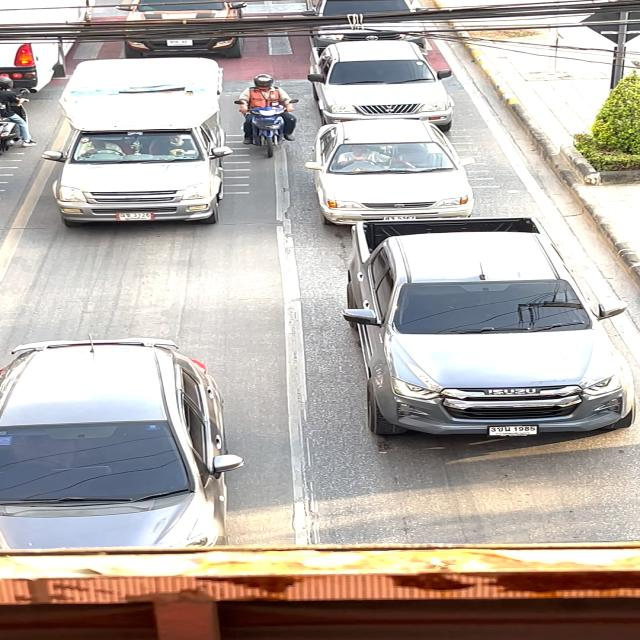car: (317, 215, 640, 448), (0, 329, 253, 544), (45, 53, 237, 232), (299, 124, 480, 230), (300, 44, 463, 128), (105, 0, 259, 45), (295, 0, 438, 46)
